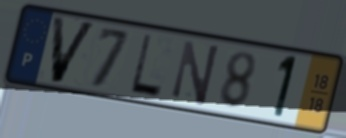1: (271, 53, 300, 123)
7: (92, 26, 132, 92)
8: (218, 50, 259, 111)
L: (127, 31, 165, 101)
N: (169, 38, 222, 109)
V: (49, 13, 100, 86)
